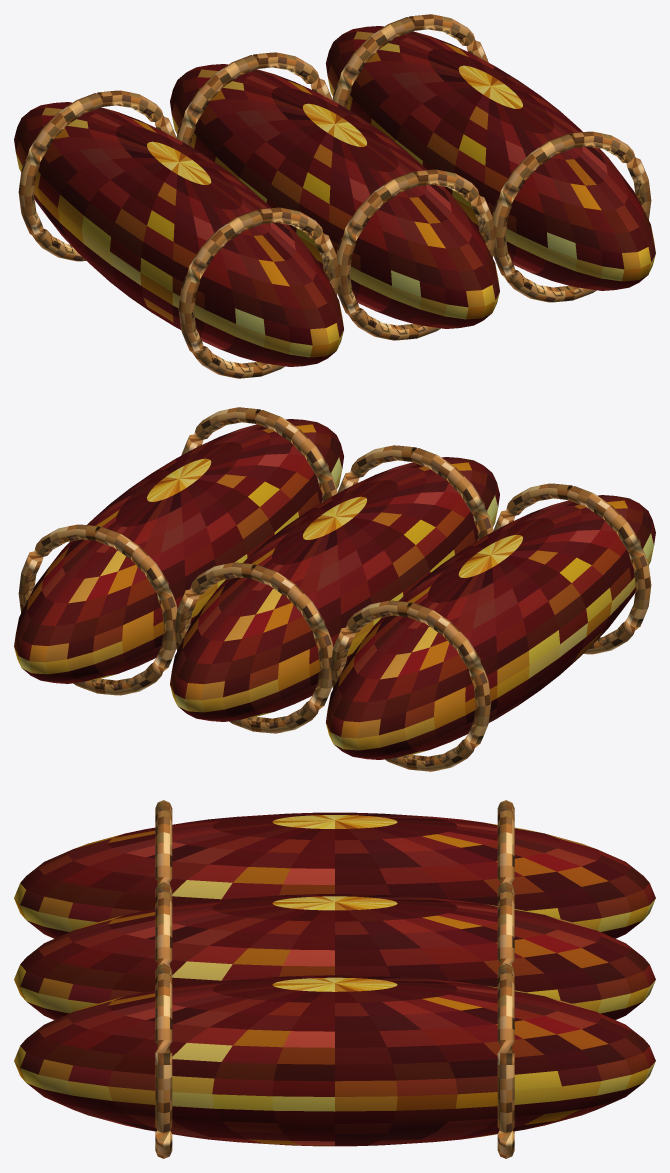
File: rolled-carpets.glb
The picture shows the model from 3 angles, top to bottom: view 1: azimuth 30°, elevation 25°; view 2: azimuth 150°, elevation 25°; view 3: azimuth 270°, elevation 25°; orthographic projection. The views are drawn at different scales.
Visible parts, largest first — view 1: rolled-carpets; view 2: rolled-carpets; view 3: rolled-carpets.
Part boxes in pixels (<box>): rolled-carpets: <box>14,14,655,378</box>; rolled-carpets: <box>14,407,655,771</box>; rolled-carpets: <box>14,800,655,1158</box>.
Size of the model in its own units: 0.6475 by 0.2186 by 0.7143.
